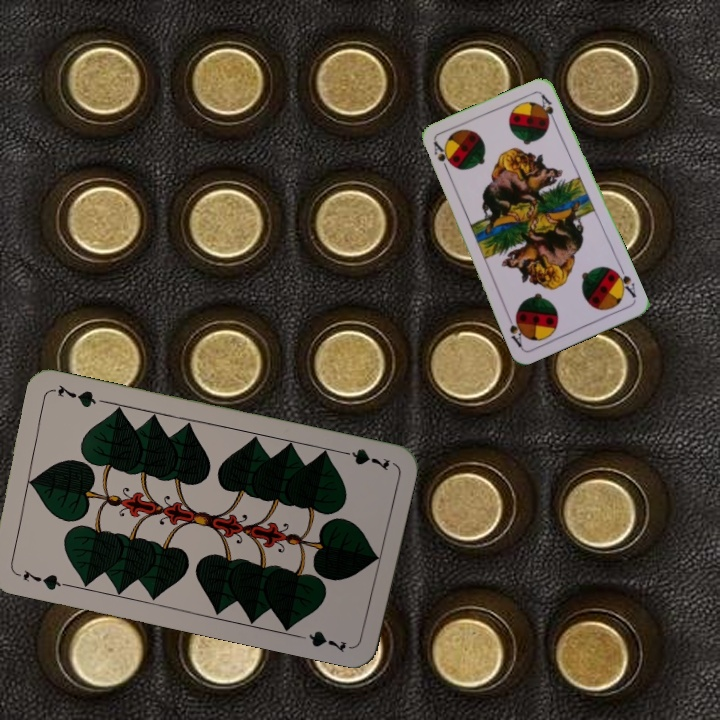G7: (334, 444, 392, 474), (19, 566, 70, 593)
SA: (610, 263, 638, 300), (430, 137, 454, 176)
